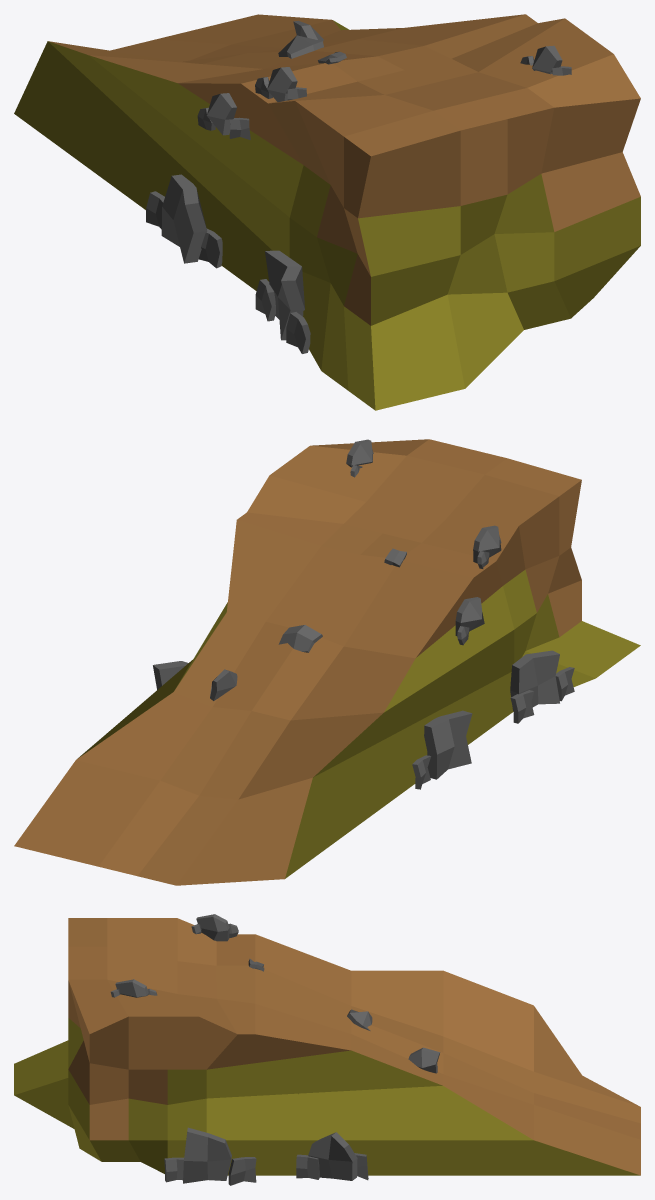
Rendered from M3Rock1.fbx.
3 renders of one model, top to bottom at view 1: azimuth 30°, elevation 25°; view 2: azimuth 150°, elevation 25°; view 3: azimuth 270°, elevation 25°, orthographic. The views are drawn at different scales.
Visible parts, largest first — view 1: Cube; view 2: Cube; view 3: Cube.
Boxes of the visible parts, x1=… form: Cube: x1=14, y1=14, x2=640, y2=410; Cube: x1=14, y1=439, x2=640, y2=885; Cube: x1=14, y1=914, x2=640, y2=1185.
Size of the model in its own units: 4481 by 2972 by 9455.
